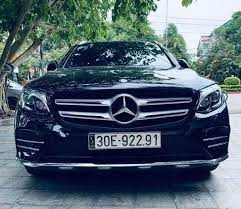Car number plates: (94, 133, 161, 148)
